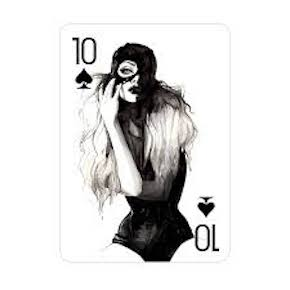TenOfSpades: (52, 18, 235, 265)
